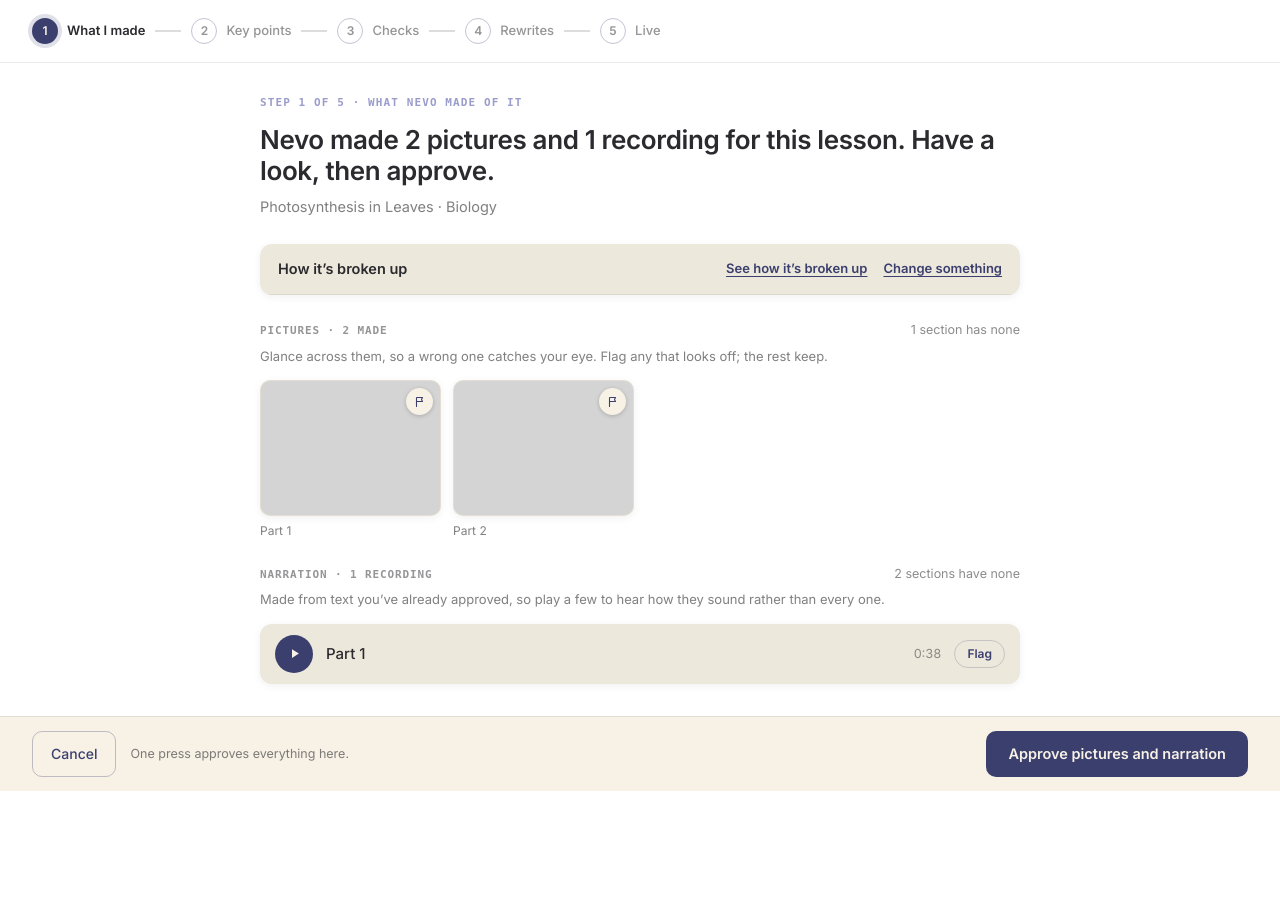
Test case: pictures and narration in step 1 › approves nothing when a remake is refused, and says why
The image size is (1280, 900).
Expected: the navigation bar named "Lesson review steps" is shown, [0, 0, 1279, 63]
Click the button with aria-label "Flag the narration for Part 1". click: [980, 654]
box: [954, 640, 1005, 668]
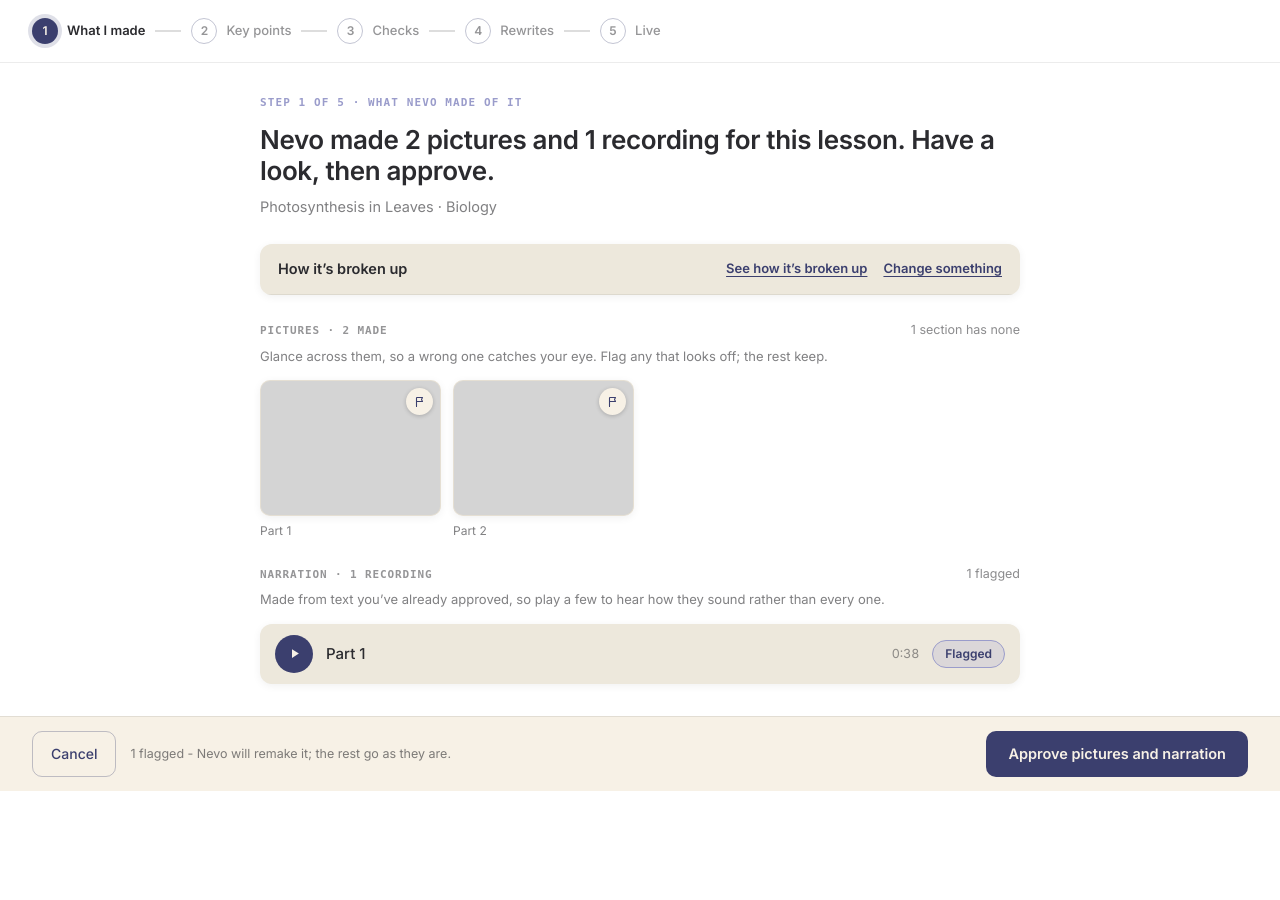
Click the button "Approve pictures and narration". click: [1117, 754]
box: [986, 731, 1248, 777]
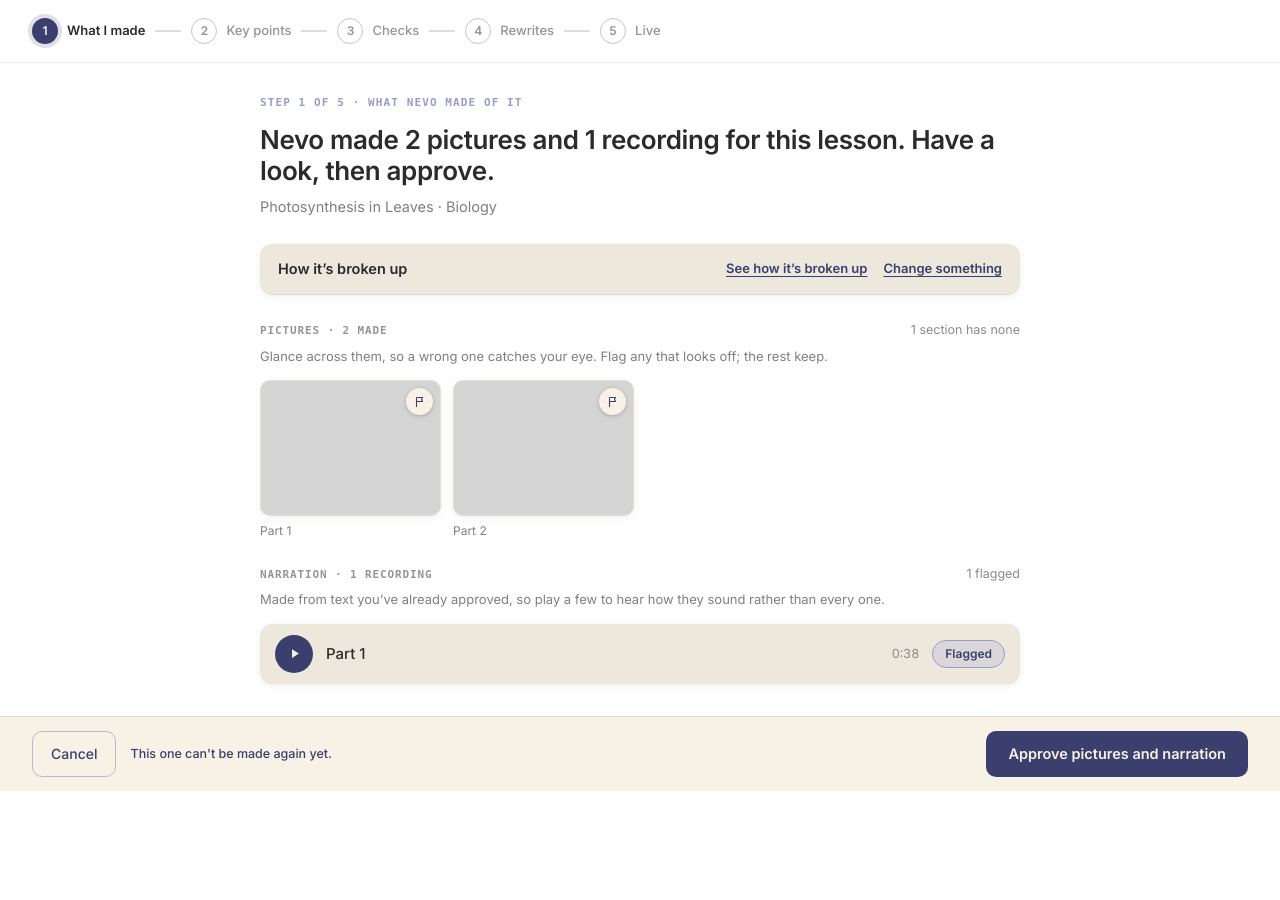
Expected: the message reads "This one can't be made again yet.", [130, 746, 332, 761]
